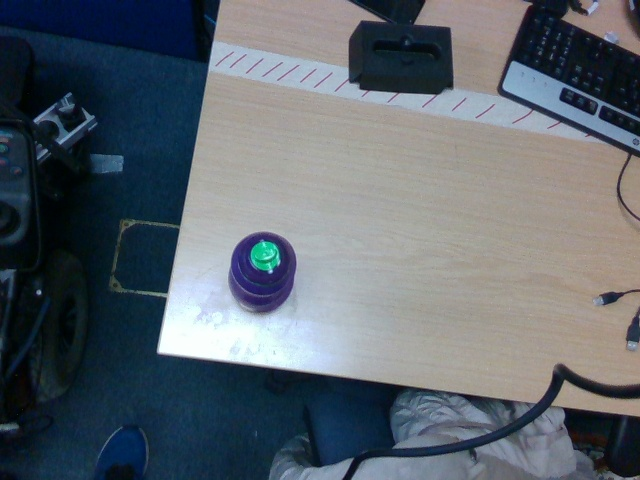book: (228, 232, 297, 315)
